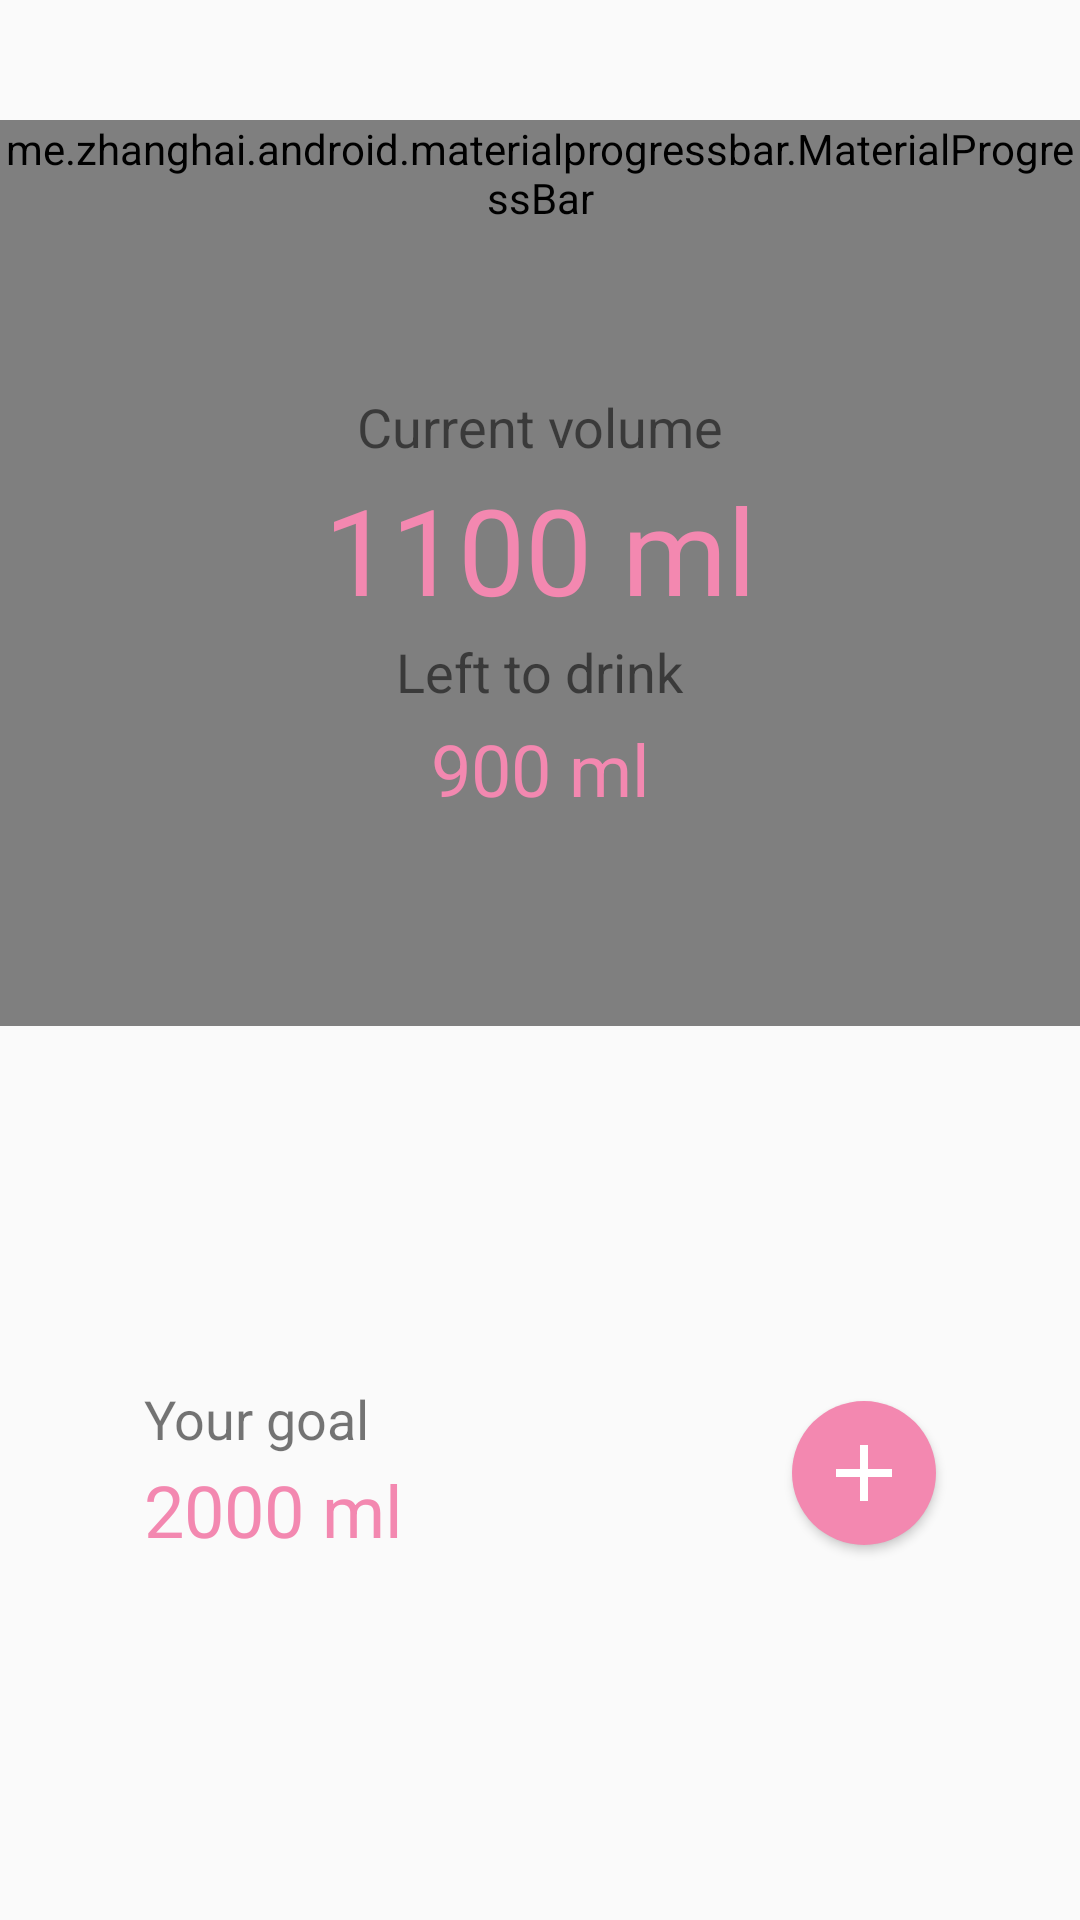

Where to tap for icons on this 1080 x 1920 app screen, as [x,y]:
add: [864,1473]
